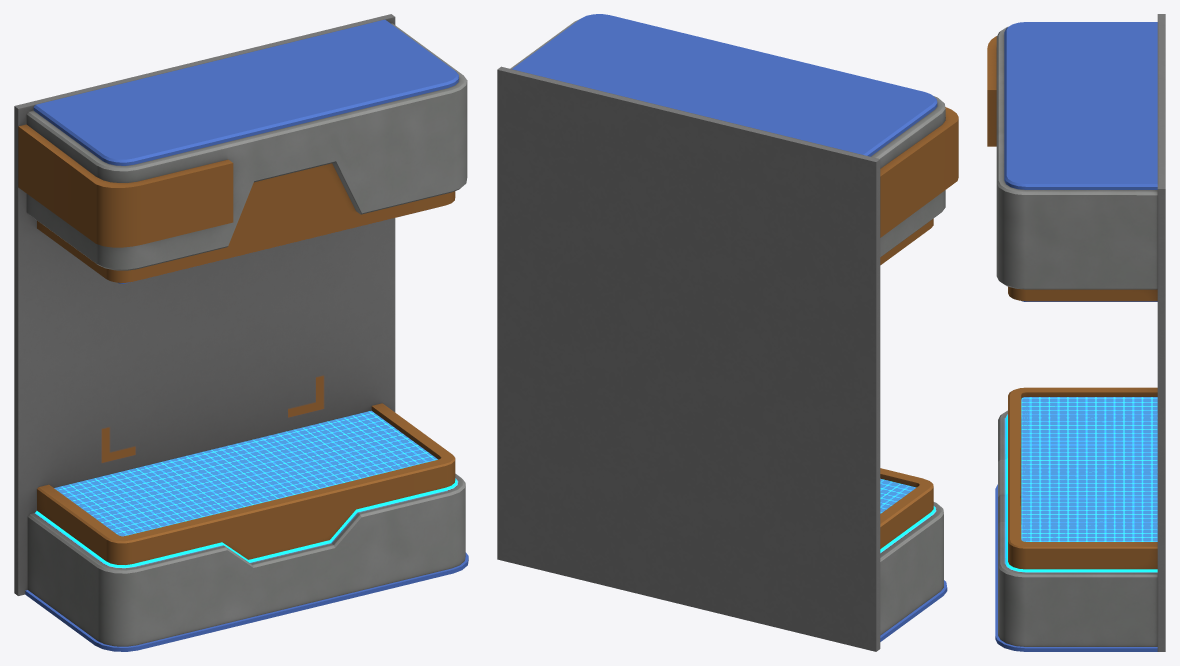
The model's file is DisplayBase.fbx.
The picture shows the model from 3 angles, left to right: view 1: azimuth 30°, elevation 25°; view 2: azimuth 150°, elevation 25°; view 3: azimuth 270°, elevation 25°; orthographic projection. The views are drawn at different scales.
Visible parts, largest first — view 1: DisplayBase1; view 2: DisplayBase1; view 3: DisplayBase1.
Boxes of the visible parts, bbox=[...] form: DisplayBase1: bbox=[14, 14, 468, 651]; DisplayBase1: bbox=[497, 14, 958, 651]; DisplayBase1: bbox=[987, 14, 1165, 651].
Bounding box in the file's own units: 242 × 299 × 104.
